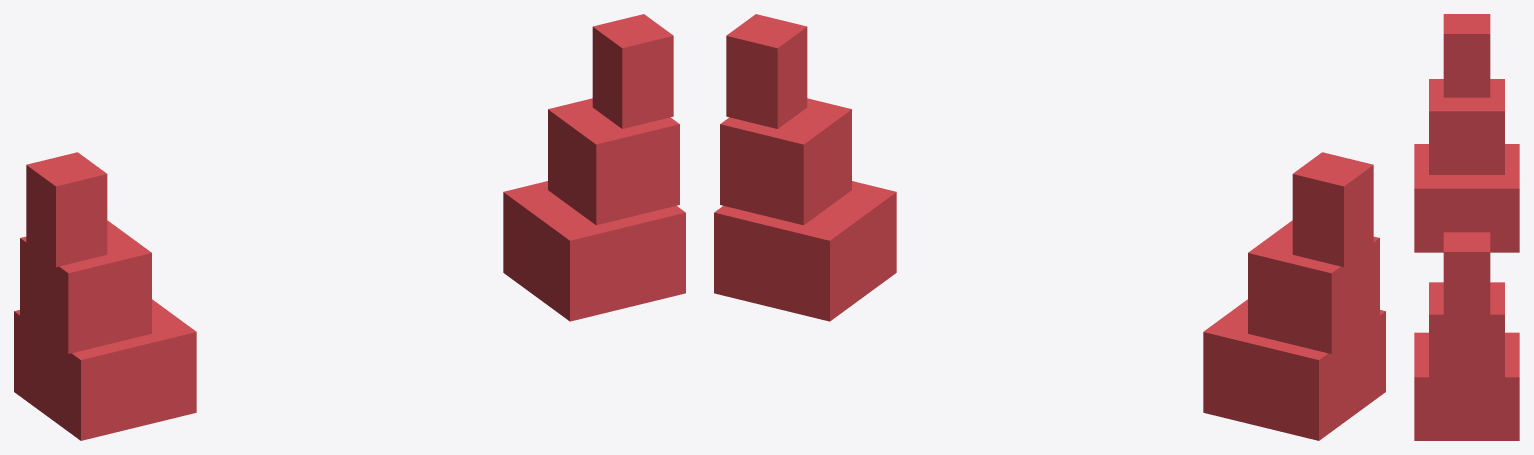
Rendered from chifres_diabinho.glb.
3 views of the same model, side by side, from view 1: azimuth 30°, elevation 25°; view 2: azimuth 150°, elevation 25°; view 3: azimuth 270°, elevation 25° (orthographic). The views are drawn at different scales.
Visible parts, largest first — view 1: chifres_diabinho; view 2: chifres_diabinho; view 3: chifres_diabinho.
Boxes of the visible parts, box(x1,y1,x2,y2) form: chifres_diabinho: box(14, 14, 685, 440); chifres_diabinho: box(714, 14, 1385, 440); chifres_diabinho: box(1414, 14, 1519, 440).
Bounding box in the file's own units: 0.48 × 0.18 × 0.09.
